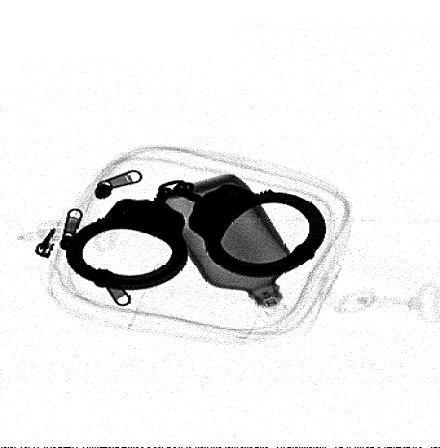HandCuffs: (59, 180, 326, 291)
